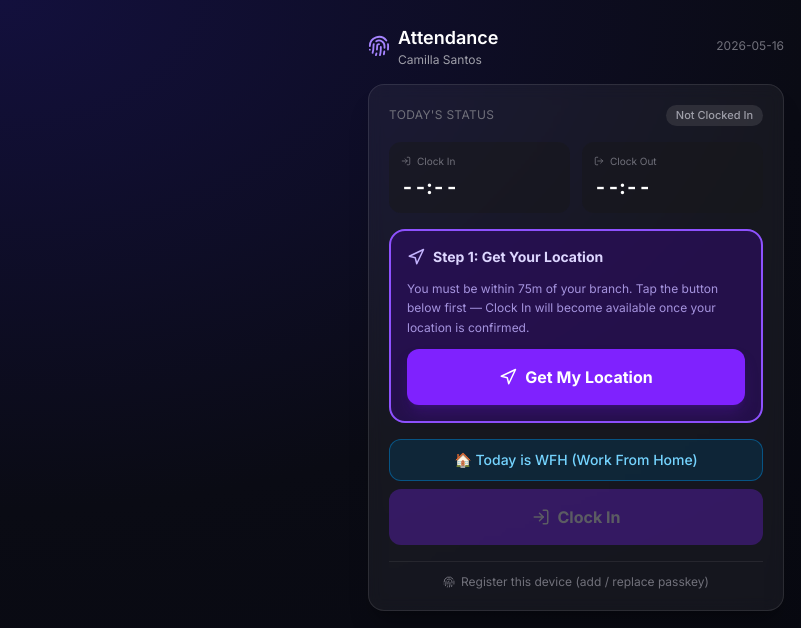
AttendancePage — WFH Mode › enables Clock In when WFH is off but GPS acquired
This screenshot has width=801, height=628.
Trigger GPS acquisition
Click the button "Get My Location" at (576, 377), box [407,349,745,405]
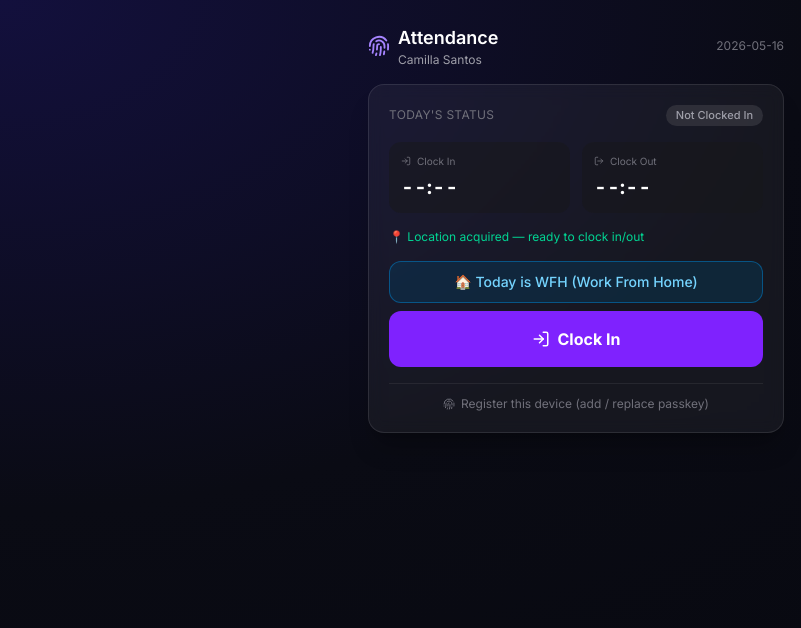
Result: the button "Clock In" is enabled at [389,310,763,366]
